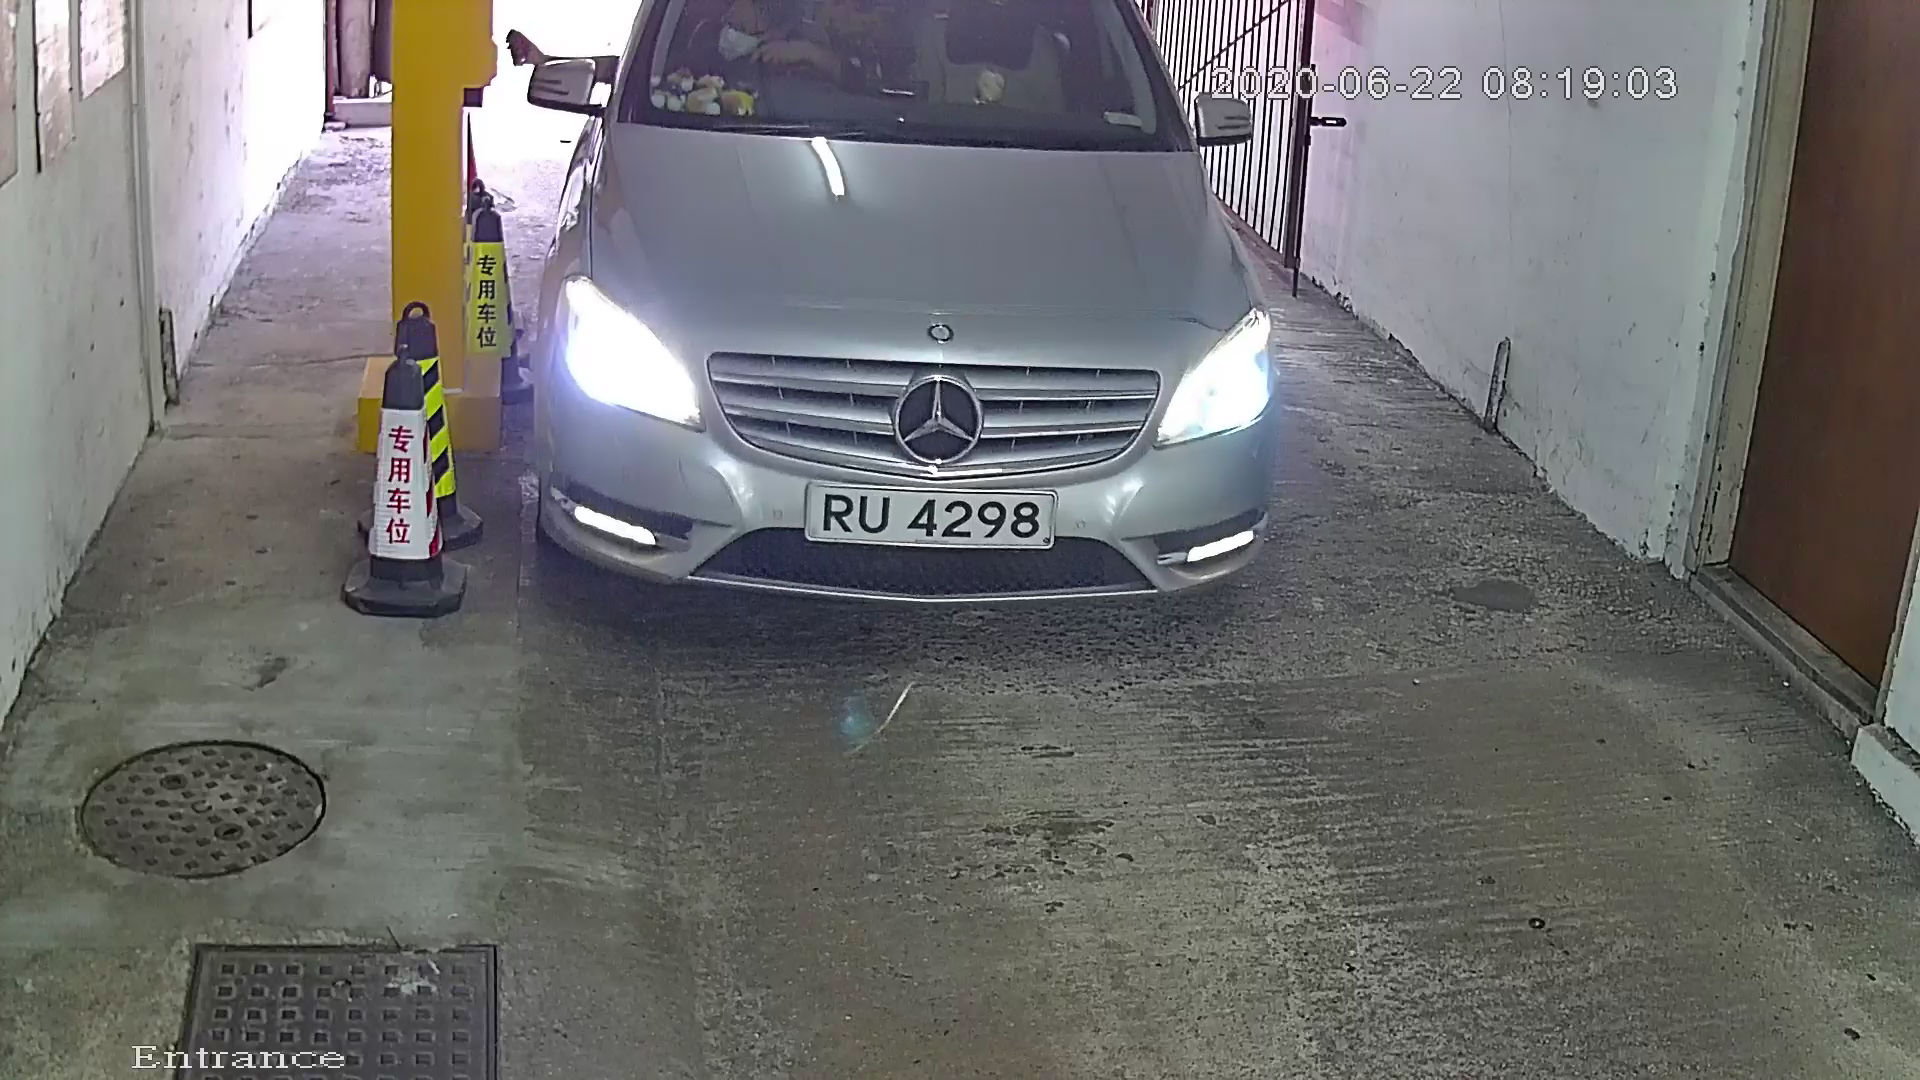privatecar: (487, 3, 1379, 680)
